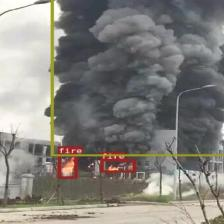fire: (57, 153, 76, 178), (100, 159, 135, 172)
smoke: (50, 0, 223, 155)
